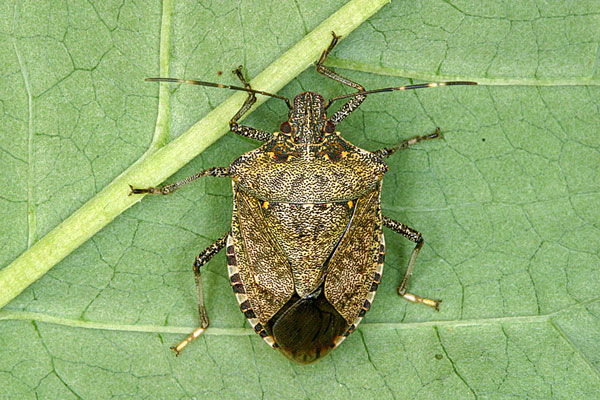Brown Marmorated Stink Bug: (124, 27, 482, 372)
